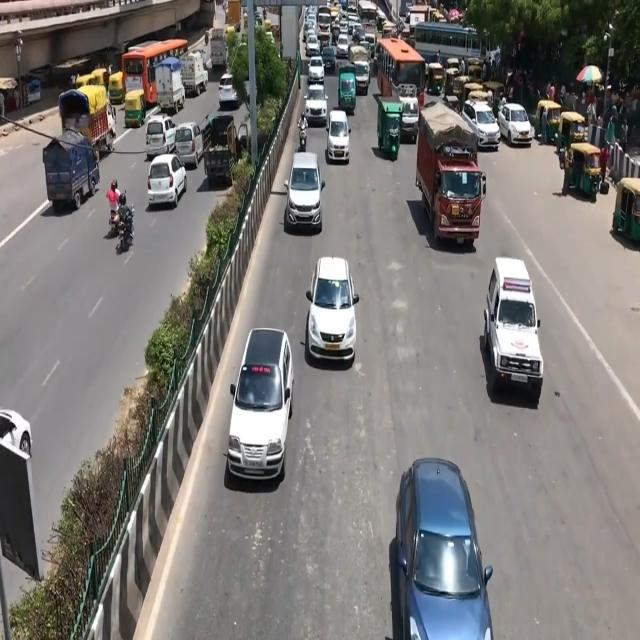Scooty: (295, 113, 311, 150)
Truck: (419, 114, 490, 251)
